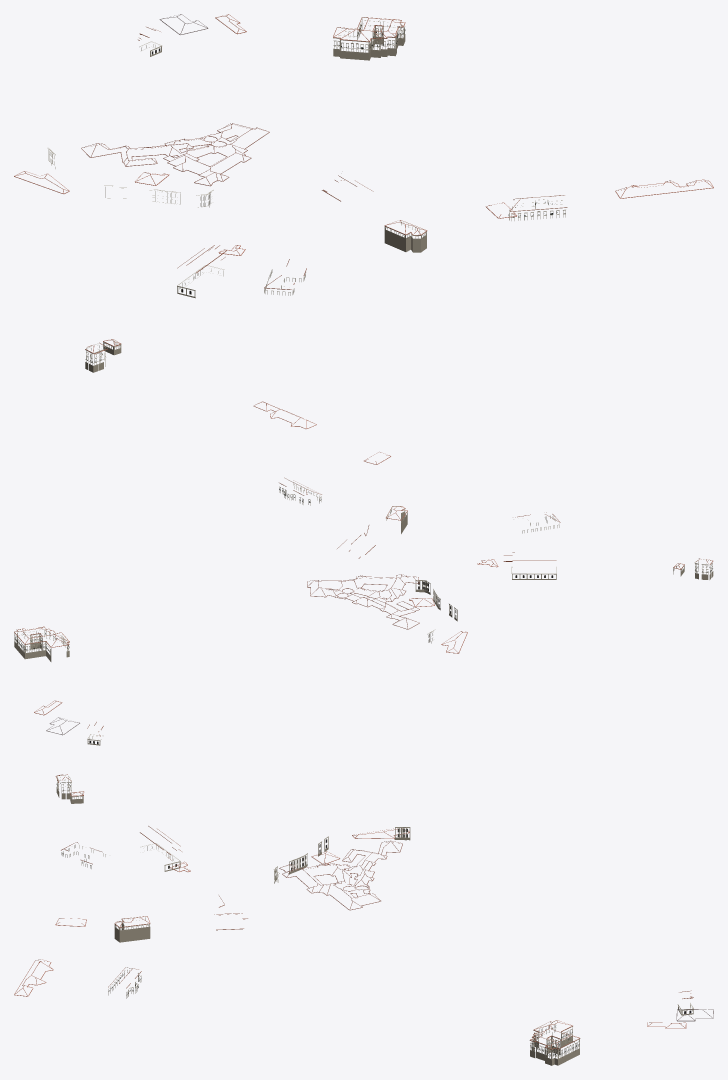
3 views of the same model, one above another, from view 1: azimuth 30°, elevation 25°; view 2: azimuth 150°, elevation 25°; view 3: azimuth 270°, elevation 25° (orthographic). The views are drawn at different scales.
Visible parts, largest first — view 1: detail; view 2: detail; view 3: detail.
Boxes of the visible parts, box(x1,y1,x2,y2) form: detail: box(14, 14, 713, 372); detail: box(14, 401, 713, 745); detail: box(14, 774, 713, 1065).
Bounding box in the file's own units: 426 × 76.32 × 495.
